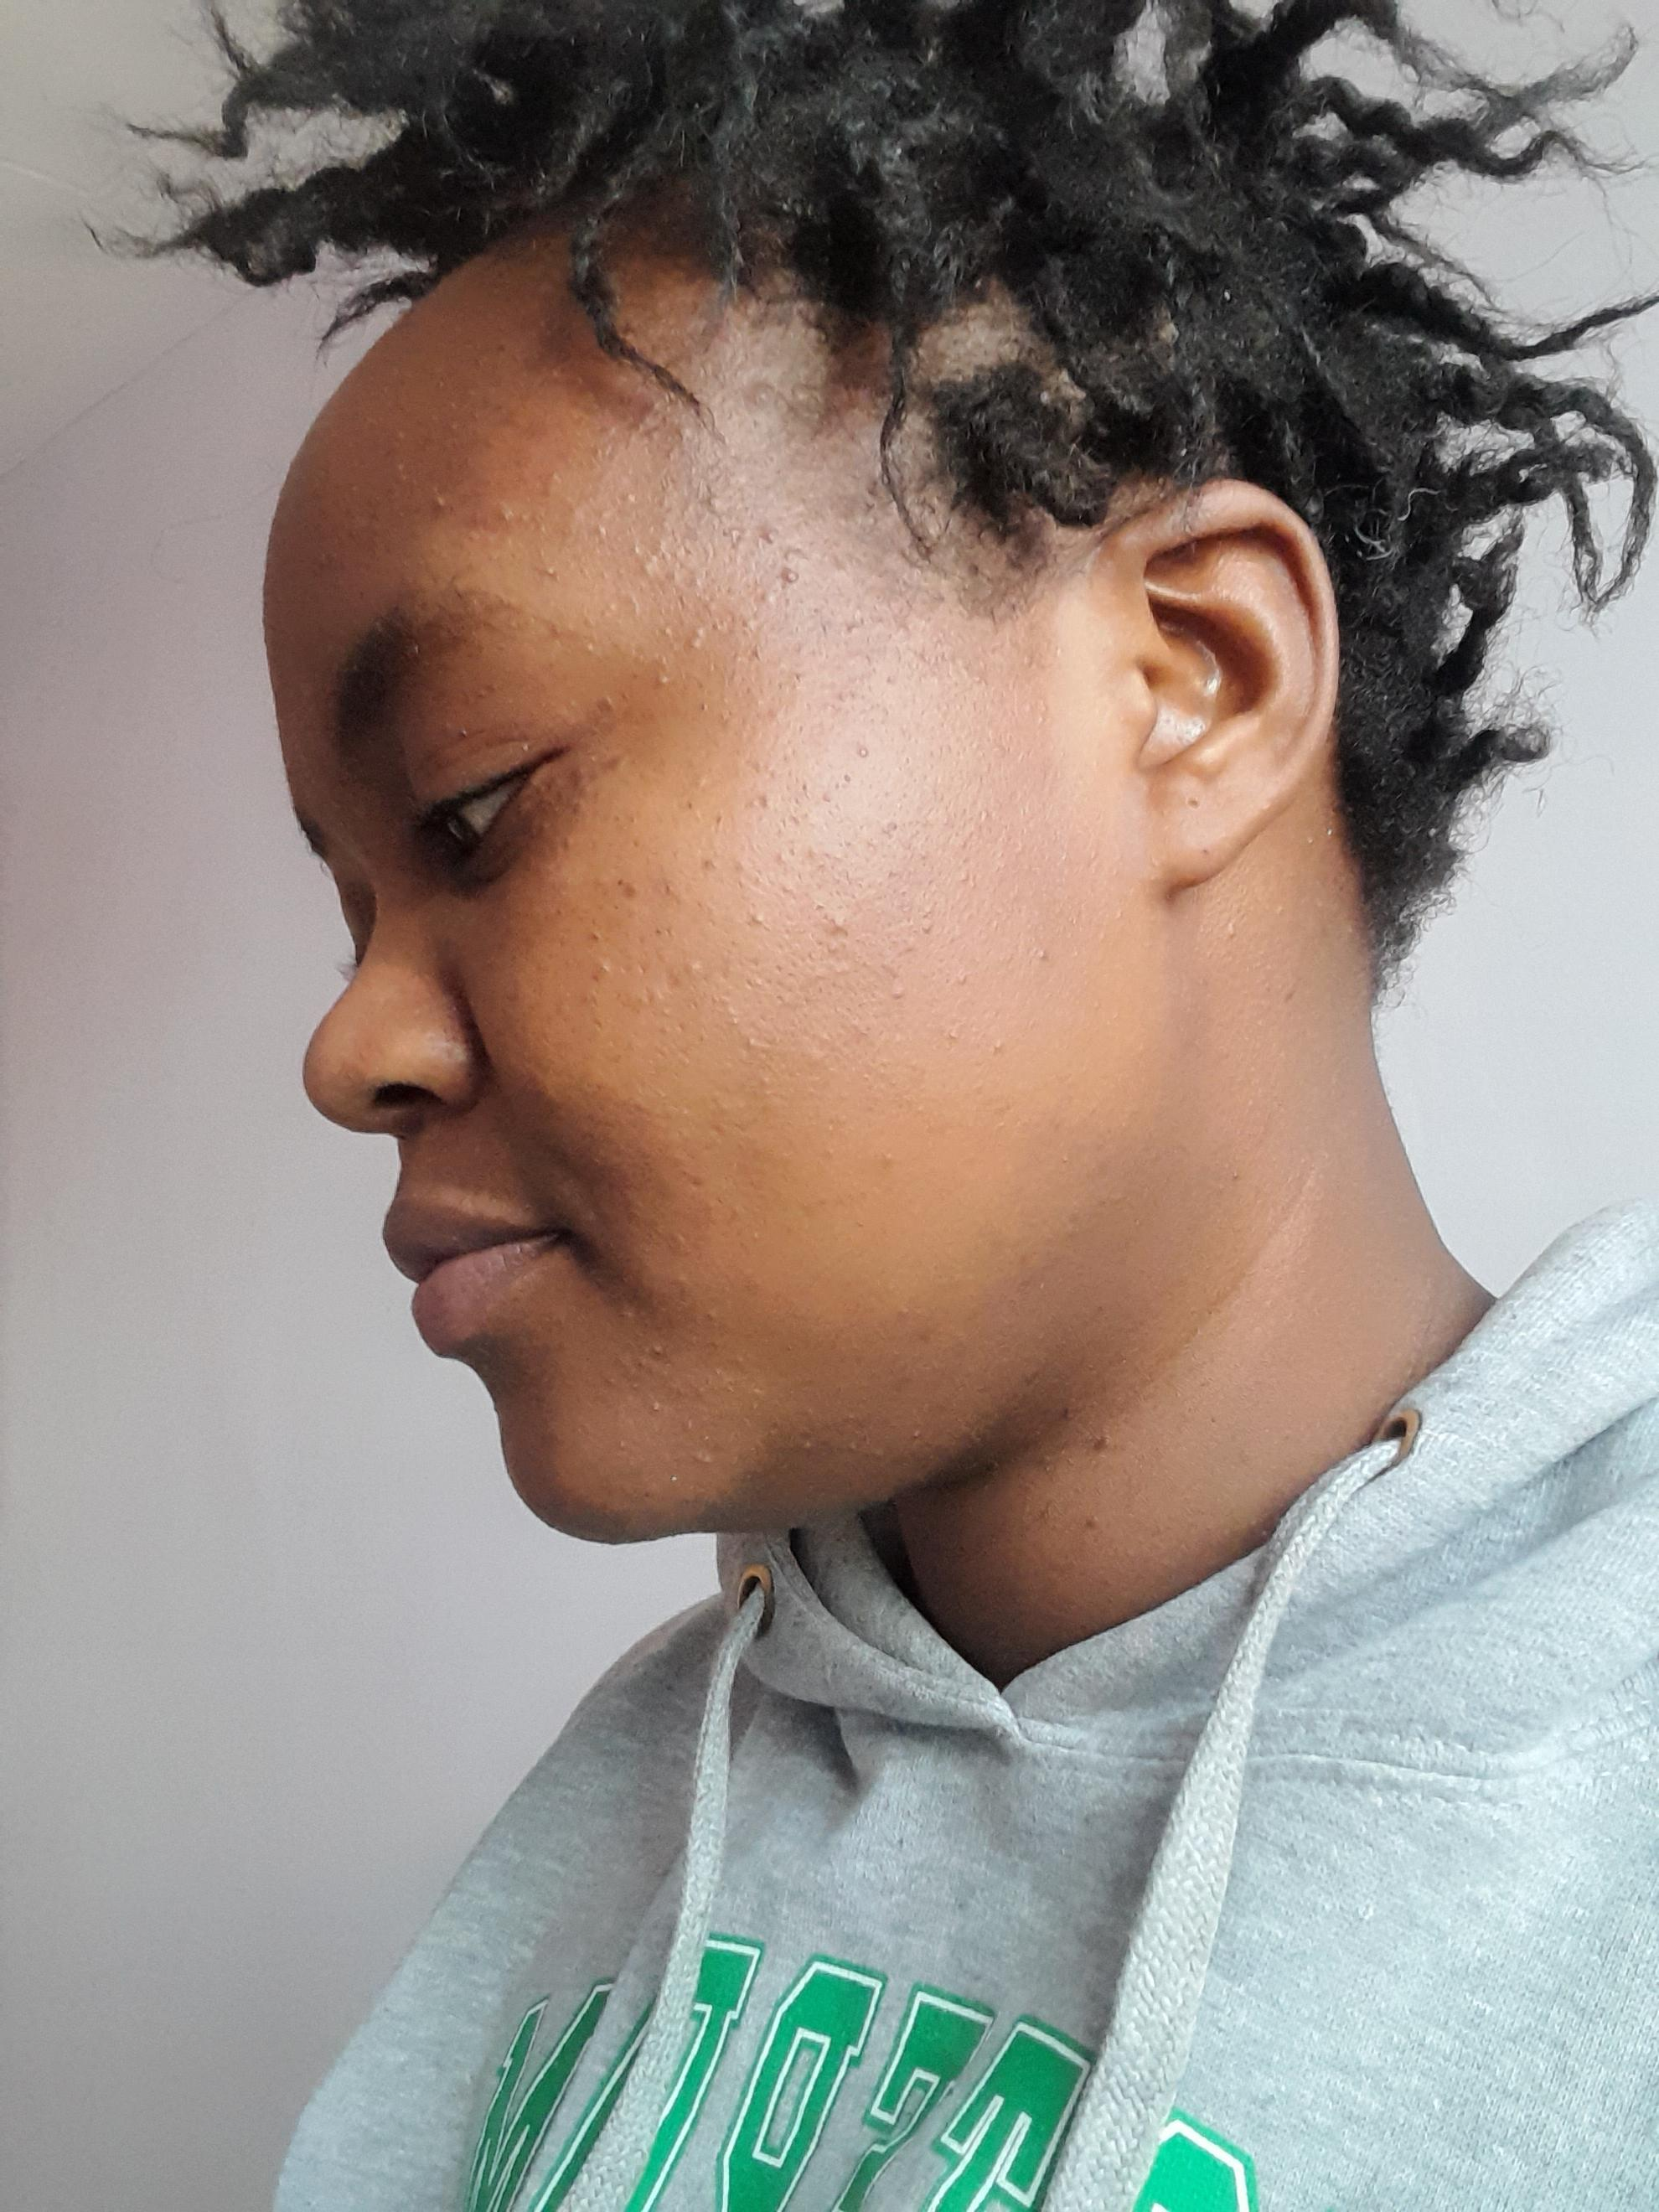Acne: (758, 523, 802, 589), (629, 536, 678, 582), (657, 620, 714, 653), (810, 895, 852, 937), (769, 840, 823, 866), (533, 465, 563, 510), (746, 378, 779, 409), (744, 787, 777, 817), (495, 498, 523, 533), (842, 1010, 866, 1047), (803, 1040, 833, 1069), (680, 570, 713, 596), (721, 521, 748, 552), (871, 817, 904, 841), (910, 911, 938, 939), (615, 1296, 643, 1324), (945, 965, 974, 991), (741, 906, 774, 928), (885, 977, 913, 1003), (756, 587, 784, 613), (873, 1144, 901, 1170), (793, 1425, 819, 1453), (436, 416, 467, 439), (678, 956, 704, 982), (622, 596, 648, 620), (425, 486, 448, 514), (849, 740, 875, 763), (702, 489, 725, 516), (694, 1447, 720, 1470), (741, 608, 763, 634), (1026, 942, 1053, 963), (591, 956, 613, 979), (596, 693, 619, 716), (697, 853, 720, 876), (676, 420, 697, 444), (892, 1303, 917, 1324), (943, 1024, 962, 1050), (983, 1038, 1011, 1055), (540, 557, 561, 580), (702, 1301, 723, 1324), (671, 1268, 692, 1291), (744, 1029, 763, 1054), (655, 665, 669, 698), (596, 521, 613, 547), (866, 1444, 892, 1461), (953, 864, 974, 885), (620, 488, 641, 509), (645, 1395, 667, 1414), (730, 855, 753, 874), (908, 1426, 931, 1446), (645, 1339, 667, 1357), (826, 937, 843, 960), (695, 697, 714, 716), (390, 423, 411, 441), (660, 1470, 683, 1486)
Eyebags: (439, 758, 587, 902)
